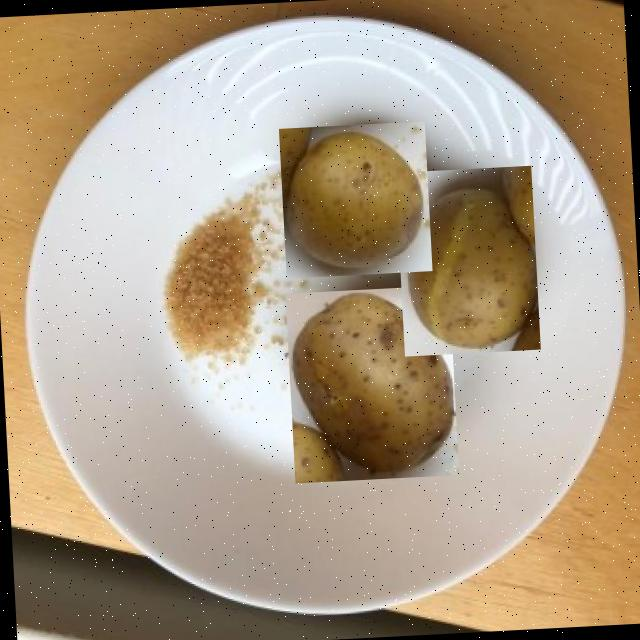Potato: (284, 284, 458, 482), (394, 164, 540, 356), (278, 120, 432, 278)
